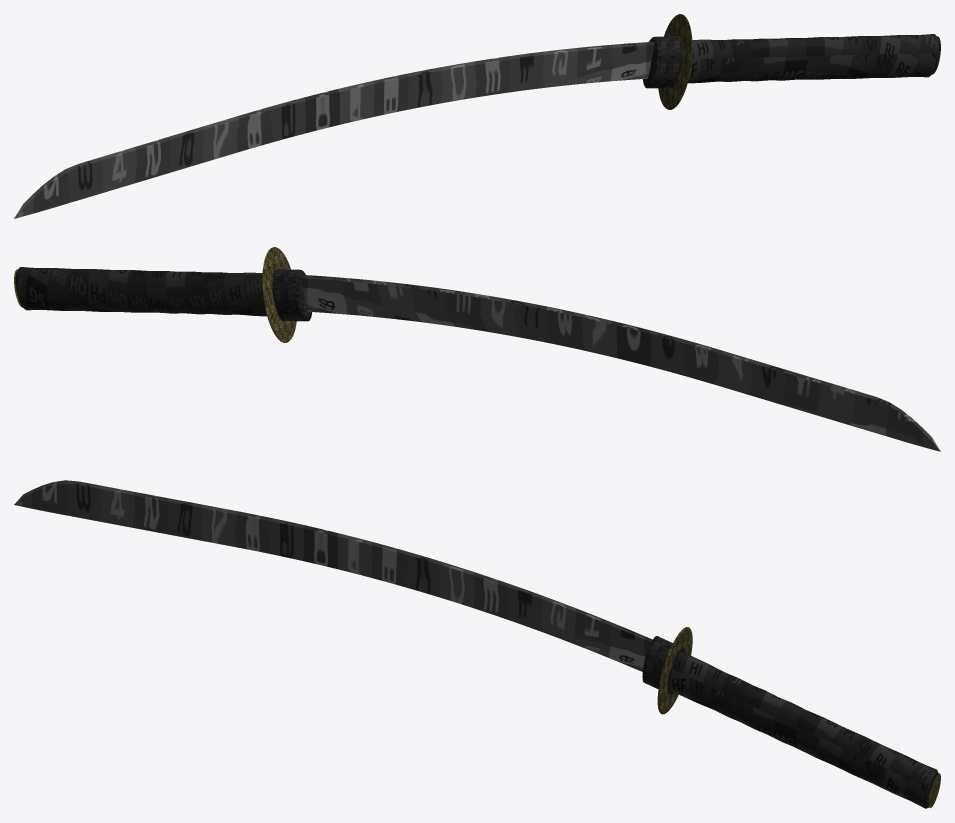
File: Samurai_Sword.fbx
3 renders of one model, top to bottom at view 1: azimuth 30°, elevation 25°; view 2: azimuth 150°, elevation 25°; view 3: azimuth 330°, elevation 25°, orthographic.
Parts seen in each view (by area): view 1: pCube1, polySurface4, polySurface1; view 2: pCube1, polySurface4, polySurface1; view 3: pCube1, polySurface4, polySurface1.
Boxes of the visible parts, box(x1,y1,x2,y2) form: pCube1: box(14, 41, 654, 218); polySurface4: box(642, 34, 939, 88); polySurface1: box(658, 14, 692, 109); pCube1: box(300, 274, 940, 451); polySurface4: box(15, 267, 312, 321); polySurface1: box(262, 247, 296, 342); pCube1: box(14, 480, 652, 671); polySurface4: box(642, 636, 938, 808); polySurface1: box(657, 627, 692, 714).
Bounding box in the file's own units: 29.46 × 4.01 × 1.64.
Materials: 3 (3 with a texture image).
